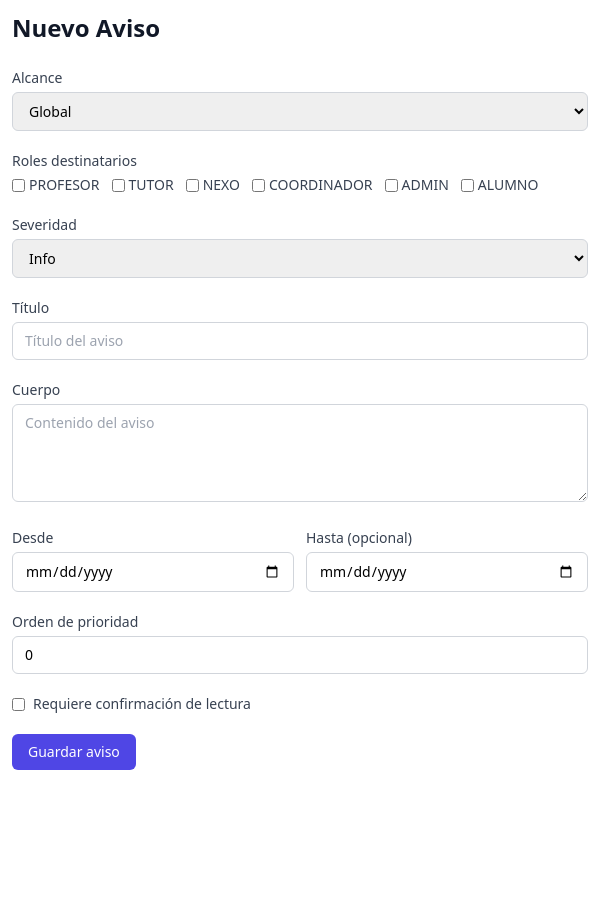
it: NuevoAvisoPage › shows materia AND cohorte selectors when scope is cohorte
This screenshot has width=605, height=899.
Select "Cohorte" in the dropdown labelled "Alcance": x=300, y=112 [12,92,588,131]
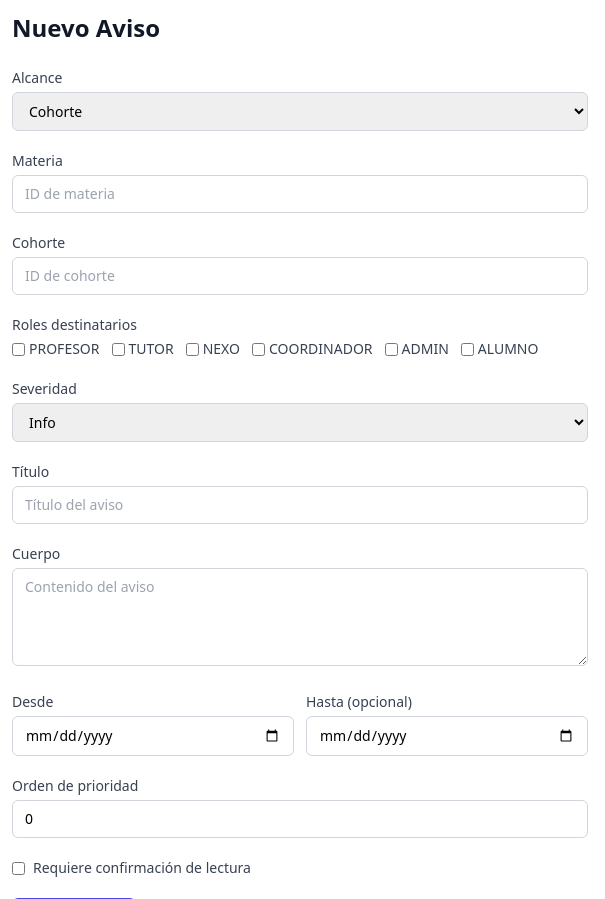
expect the field labelled "Materia" is shown: met, box [12,175,588,213]
expect the field labelled "Cohorte" is shown: met, box [12,257,588,295]
